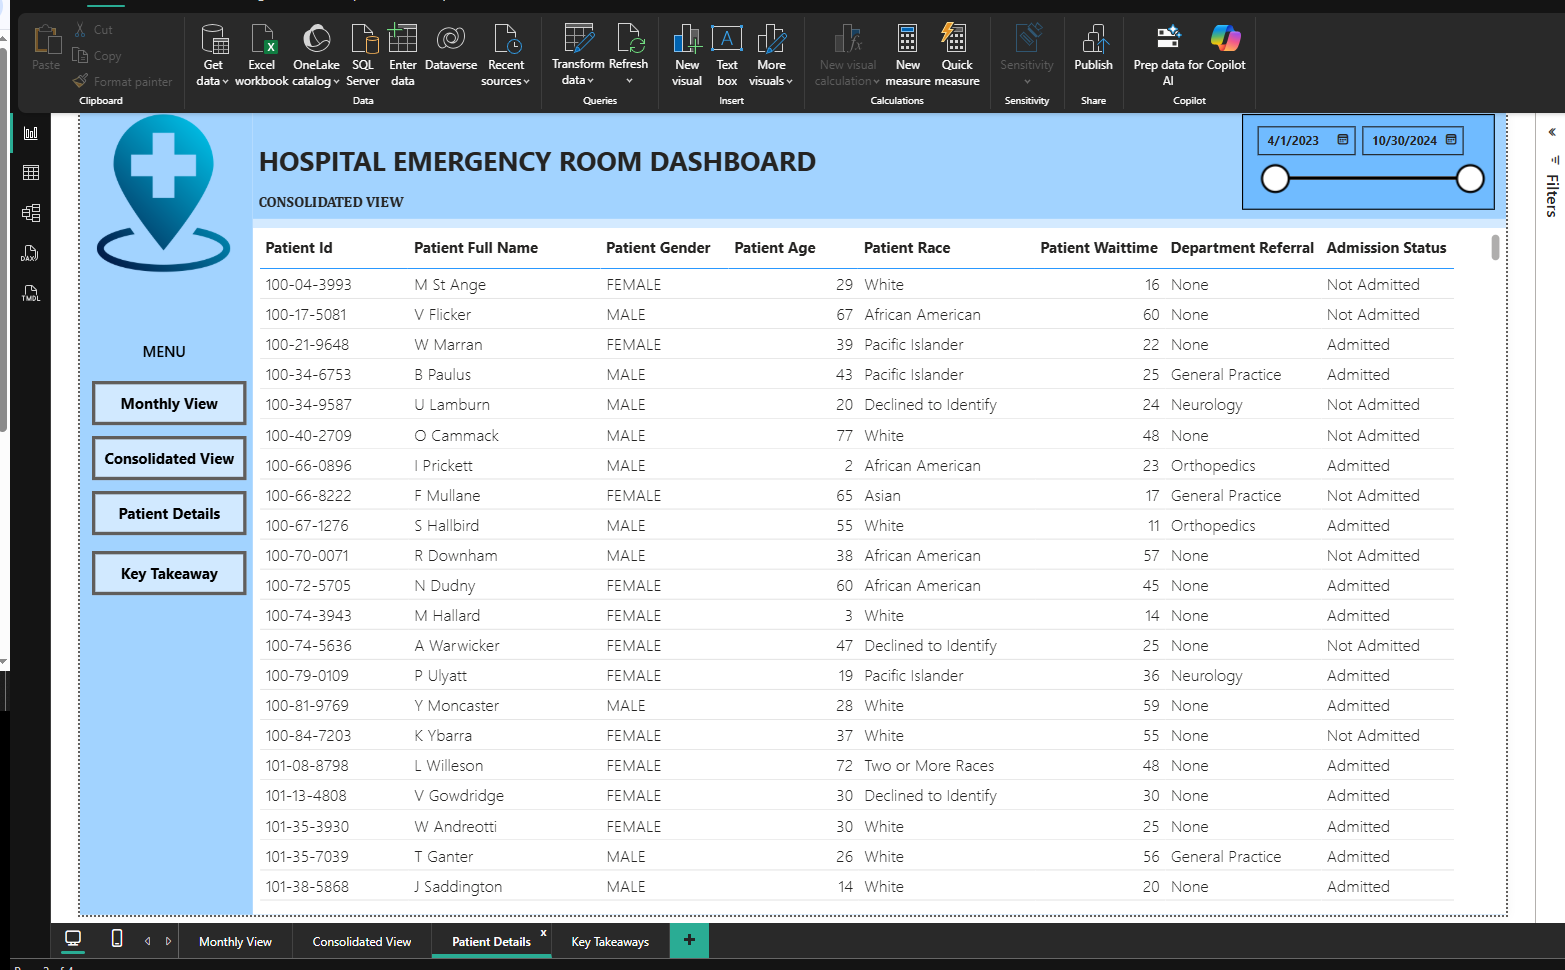

What the dashboard file says about the page in this screenshot:
{"tool":"powerbi","page":{"name":"Patient Details","canvas":[1280,720],"ordinal":2},"visuals":[{"type":"shape","box":[0,0,155,719.8],"z":0},{"type":"actionButton","title":"Monthly View","box":[10.5,241.3,138.7,39.6],"z":0,"group":"g1"},{"type":"shape","box":[155,0,1125,95.2],"z":1000},{"type":"actionButton","title":"Monthly View","box":[10.5,290.3,138.7,39.6],"z":1000,"group":"g1"},{"type":"textbox","box":[155,20.8,591,44.4],"z":2000},{"type":"actionButton","title":"Monthly View","box":[10.5,340.4,138.7,39.6],"z":2000,"group":"g1"},{"type":"textbox","box":[155,65.3,146.9,29.9],"z":3000},{"type":"actionButton","title":"Monthly View","box":[10.5,394,138.7,39.6],"z":3000,"group":"g1"},{"type":"slicer","fields":{"Values":["Date Table.Date"]},"box":[1043.4,0.9,226.6,86.1],"z":4000},{"type":"image","box":[0,0.9,149.6,142.3],"z":5000},{"type":"textbox","box":[51.3,200.5,64.1,30.3],"z":5010,"group":"g2"},{"type":"group","id":"g1","title":"Group 1","box":[10.5,241.3,138.7,192.3],"z":5015,"group":"g2"},{"type":"tableEx","fields":{"Values":["Hospital_ER_Data.Patient Id","Hospital_ER_Data.Patient Full Name","Hospital_ER_Data.Patient Gender","Hospital_ER_Data.Patient Age","Hospital_ER_Data.Patient Race","Hospital_ER_Data.Patient Waittime","Hospital_ER_Data.Department Referral","Hospital_ER_Data.Admission Status"]},"box":[155,103.3,1125,616.4],"z":6000},{"type":"group","id":"g2","title":"Group 2","box":[10.5,200.5,138.7,233.2],"z":7000}]}

Visuals, with their boxes on the page's 1280x720 design canvas (x1, y1, x2, y2). These are canvas units, not pixel positions in the 1565x970 screenshot, which may show the page scaled, cropped or inside an application window:
shape: x1=0 y1=0 x2=155 y2=720
"Monthly View" actionButton: x1=10 y1=241 x2=149 y2=281
shape: x1=155 y1=0 x2=1280 y2=95
"Monthly View" actionButton: x1=10 y1=290 x2=149 y2=330
textbox: x1=155 y1=21 x2=746 y2=65
"Monthly View" actionButton: x1=10 y1=340 x2=149 y2=380
textbox: x1=155 y1=65 x2=302 y2=95
"Monthly View" actionButton: x1=10 y1=394 x2=149 y2=434
slicer - Date Table.Date: x1=1043 y1=1 x2=1270 y2=87
image: x1=0 y1=1 x2=150 y2=143
textbox: x1=51 y1=200 x2=115 y2=231
"Group 1" group: x1=10 y1=241 x2=149 y2=434
tableEx - Hospital_ER_Data.Patient Id x Hospital_ER_Data.Patient Full Name: x1=155 y1=103 x2=1280 y2=720
"Group 2" group: x1=10 y1=200 x2=149 y2=434
